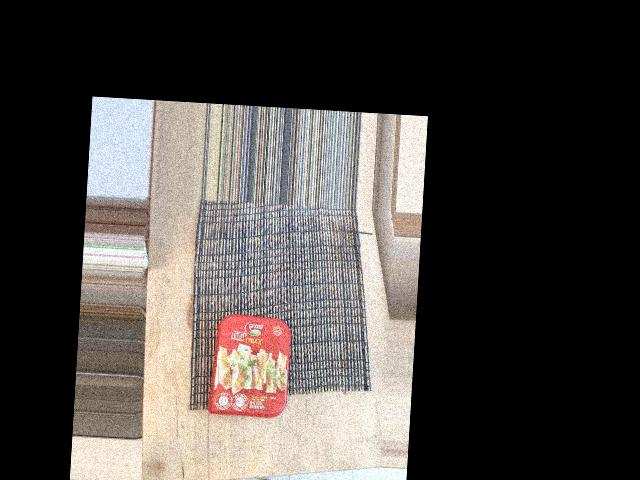cheese: (233, 288, 367, 385)
